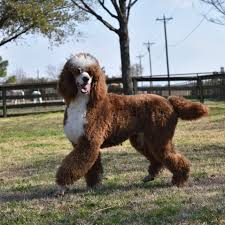Poodle: (40, 37, 210, 201)
